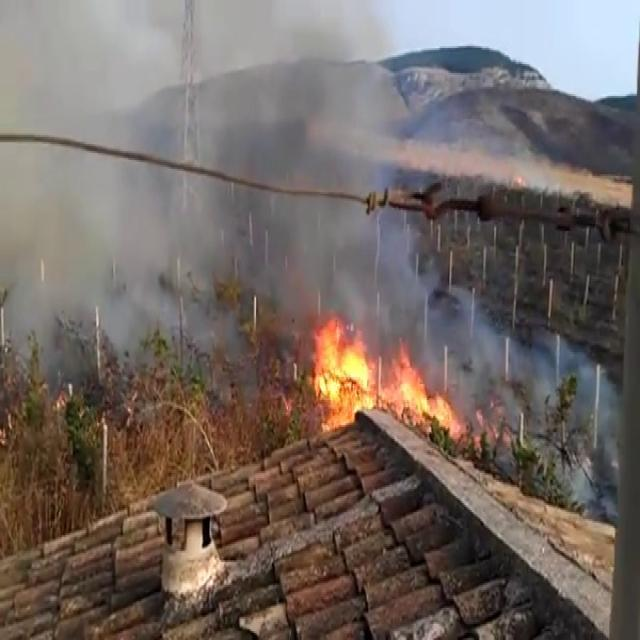Fire: (304, 312, 460, 436)
Smoke: (0, 0, 439, 386)
